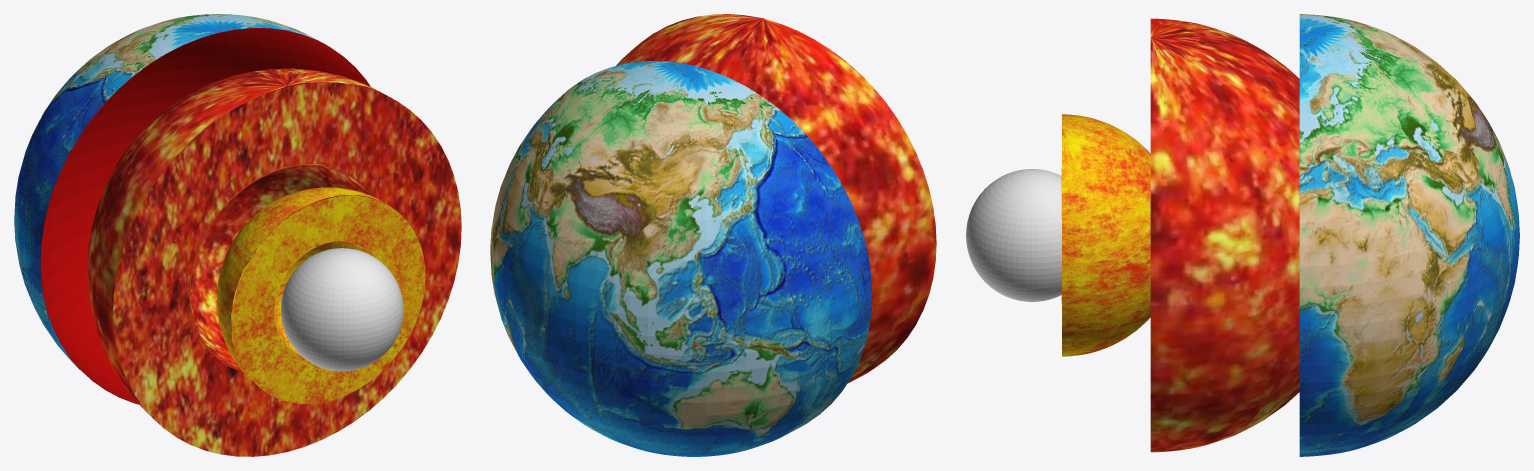
File: earth_core_v.1.glb
3 renders of one model, left to right at view 1: azimuth 30°, elevation 25°; view 2: azimuth 150°, elevation 25°; view 3: azimuth 270°, elevation 25°, orthographic. The views are drawn at different scales.
Parts seen in each view (by area): view 1: Material2 (×7); view 2: Material2 (×2); view 3: Material2 (×4).
Boxes of the visible parts, x1=… form: Material2 (×7): x1=14, y1=14, x2=461, y2=456; Material2 (×2): x1=490, y1=14, x2=936, y2=456; Material2 (×4): x1=966, y1=14, x2=1519, y2=456.
Bounding box in the file's own units: 78.24 × 78.24 × 97.74.
Materials: 5 (3 with a texture image).
